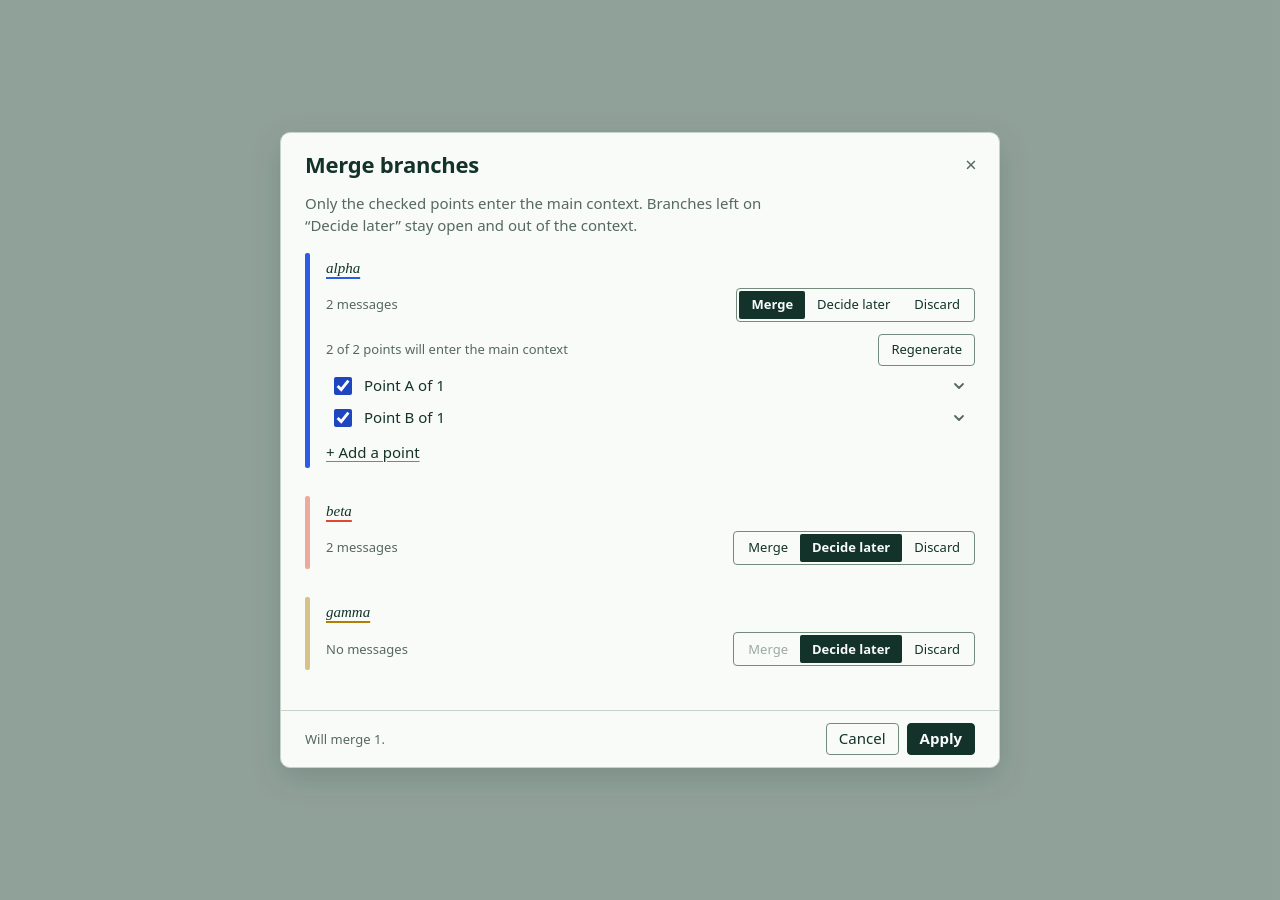
Test: MergeDialog › regenerates only after a confirmation
Later steps or results of the test are not shown.
Click the button "Regenerate".
click(927, 350)  # box [878, 334, 975, 366]
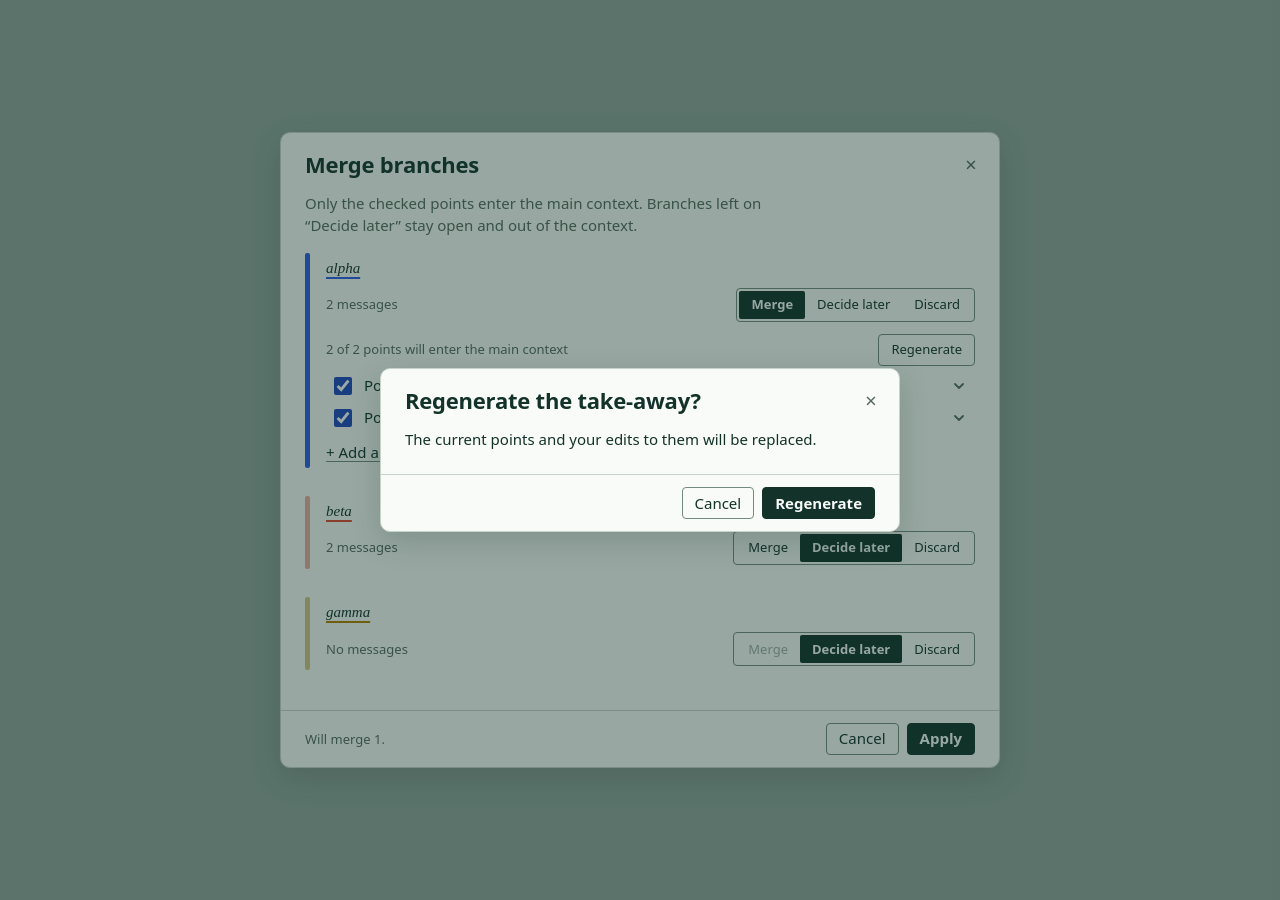
Click the button "Cancel".
click(718, 503)  # box [682, 487, 754, 519]
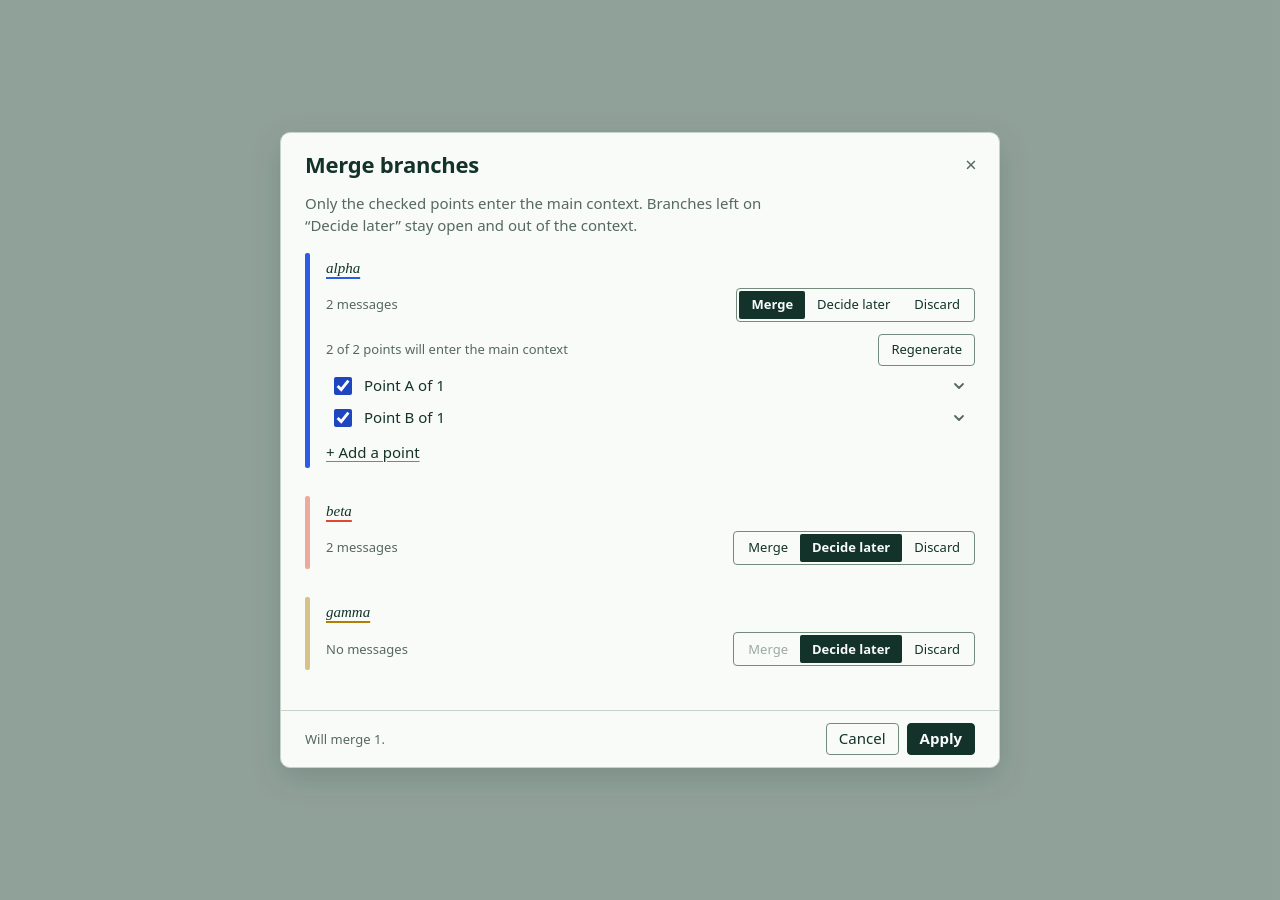
Expected: the heading "Regenerate the take-away?" is gone
